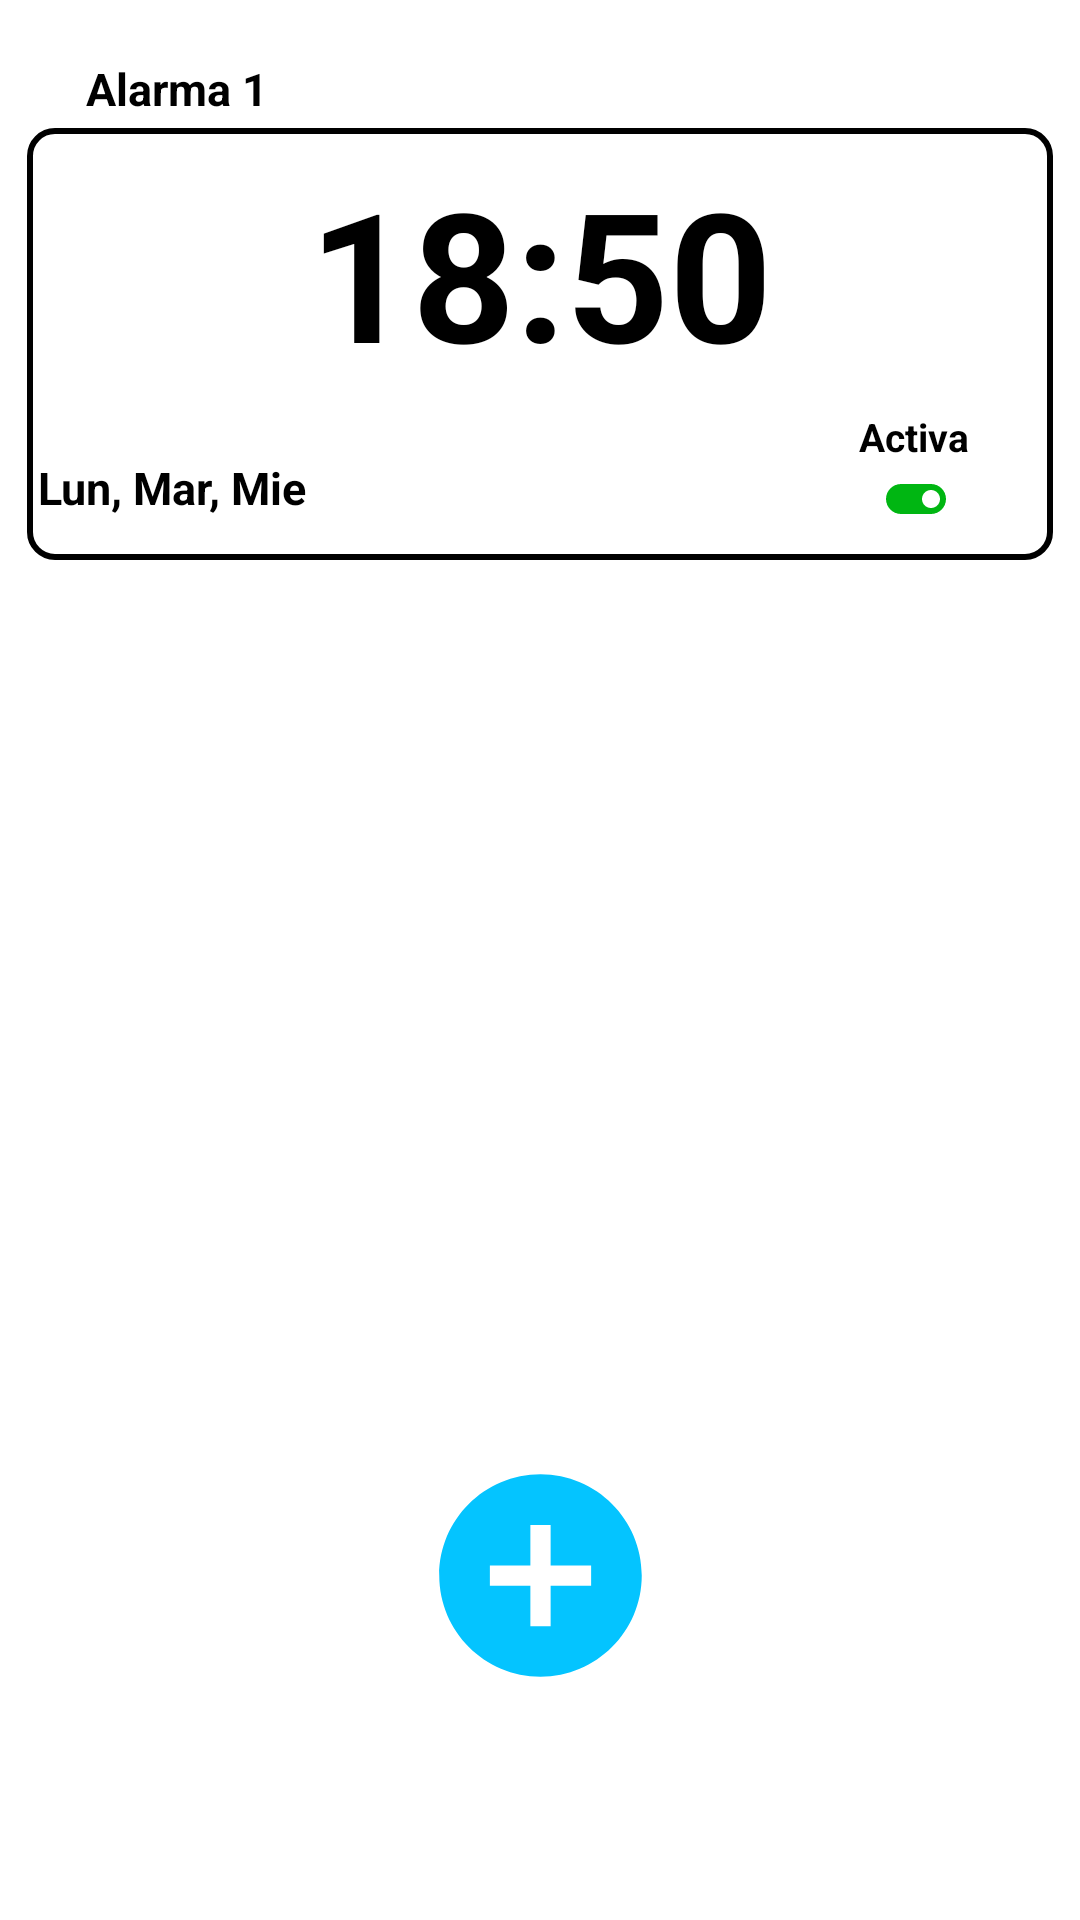

Where icons sit on this 1080x1920 app screen, as (x1, y1, x2, y2):
add circle: (439, 1474, 642, 1677)
